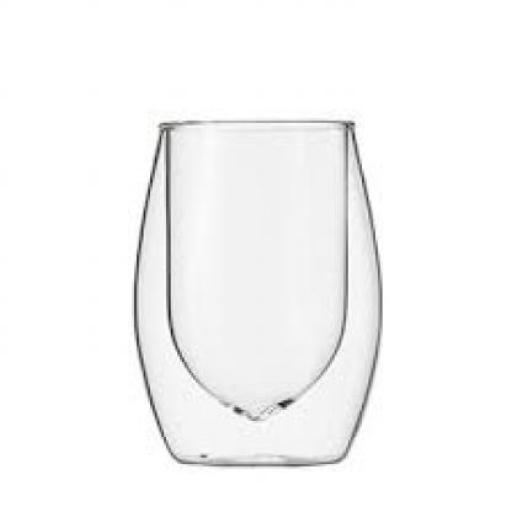glass: (134, 120, 380, 462)
